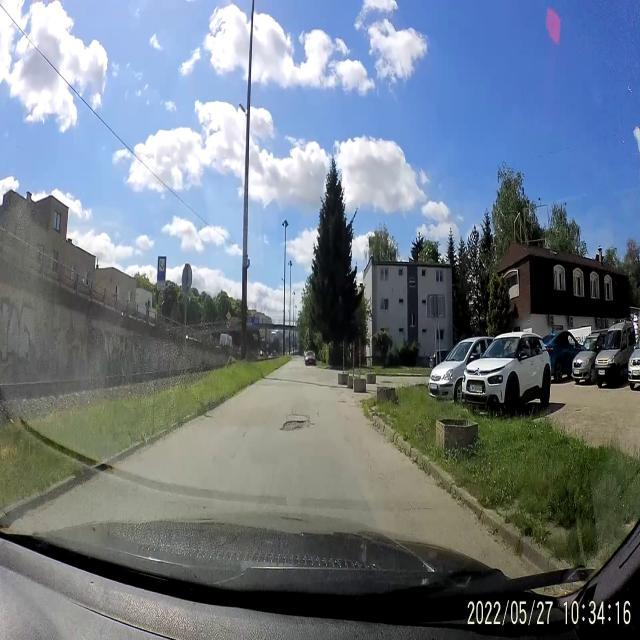Pothole: (280, 408, 318, 436), (338, 396, 348, 408)
